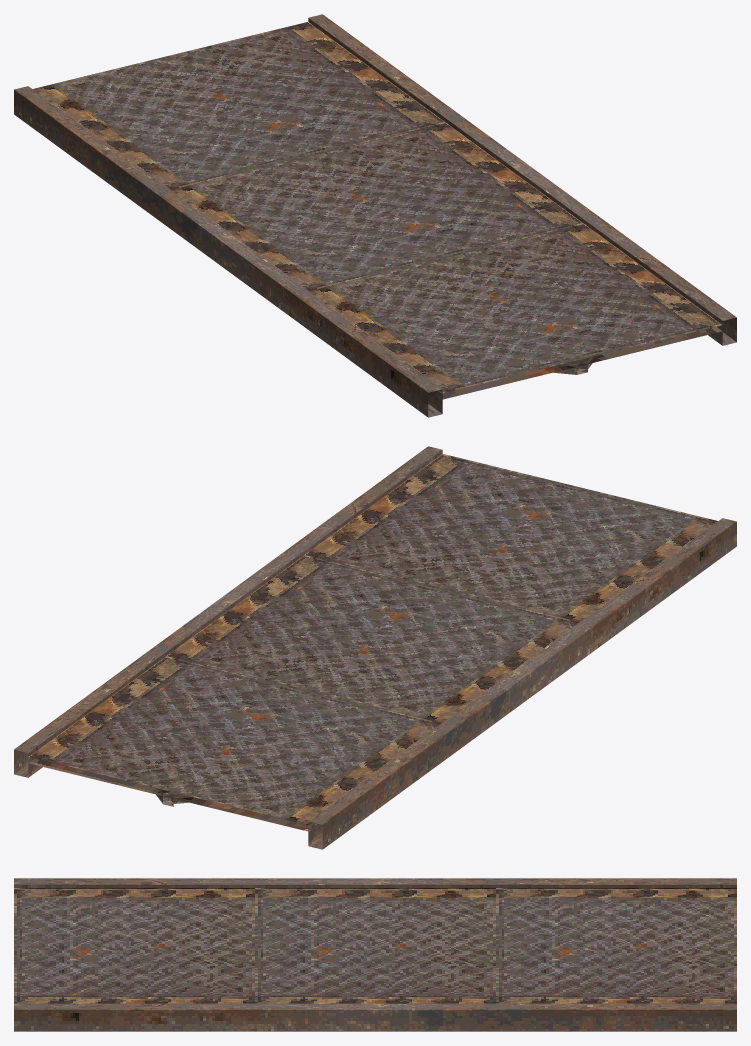
File: platform.glb
The picture shows the model from 3 angles, top to bottom: view 1: azimuth 30°, elevation 25°; view 2: azimuth 150°, elevation 25°; view 3: azimuth 270°, elevation 25°; orthographic projection. The views are drawn at different scales.
Bounding box in the file's own units: 2.09 × 0.161 × 4.85.
Materials: 1 (1 with a texture image).
